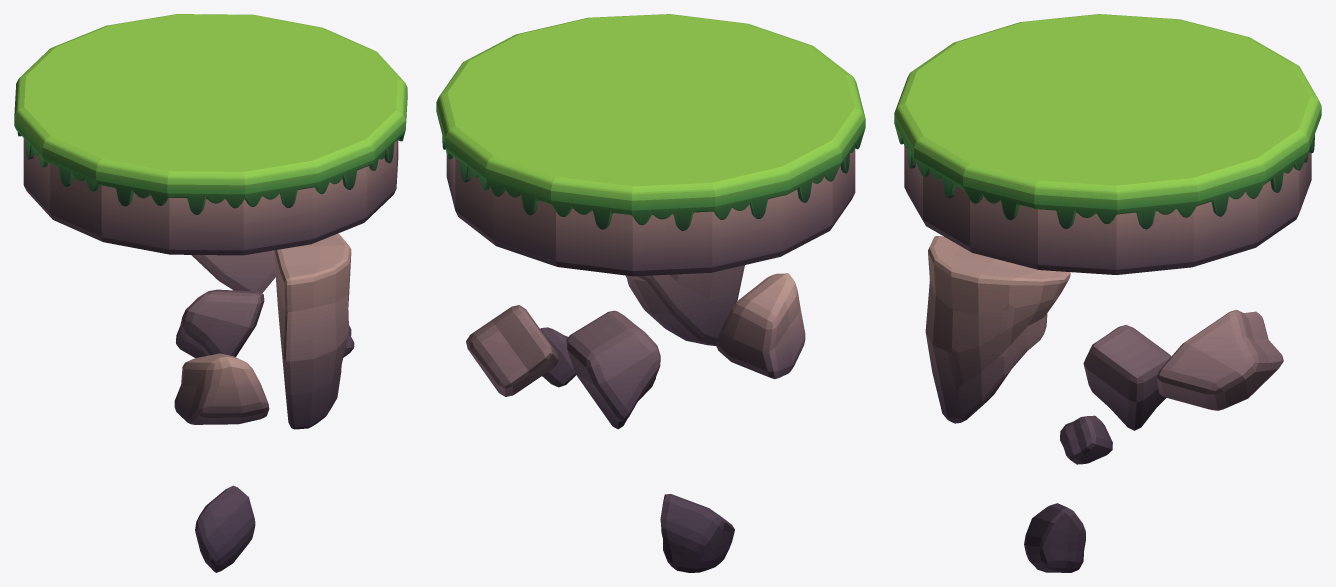
The model's file is big_round.fbx.
3 renders of one model, left to right at view 1: azimuth 30°, elevation 25°; view 2: azimuth 150°, elevation 25°; view 3: azimuth 270°, elevation 25°, orthographic. The views are drawn at different scales.
Parts seen in each view (by area): view 1: round_big; view 2: round_big; view 3: round_big.
Part boxes in pixels (left/top/right/bottom): round_big: left=14, top=14, right=407, bottom=572; round_big: left=436, top=14, right=865, bottom=572; round_big: left=894, top=14, right=1321, bottom=572.
Size of the model in its own units: 8.39 by 10.42 by 8.39.
